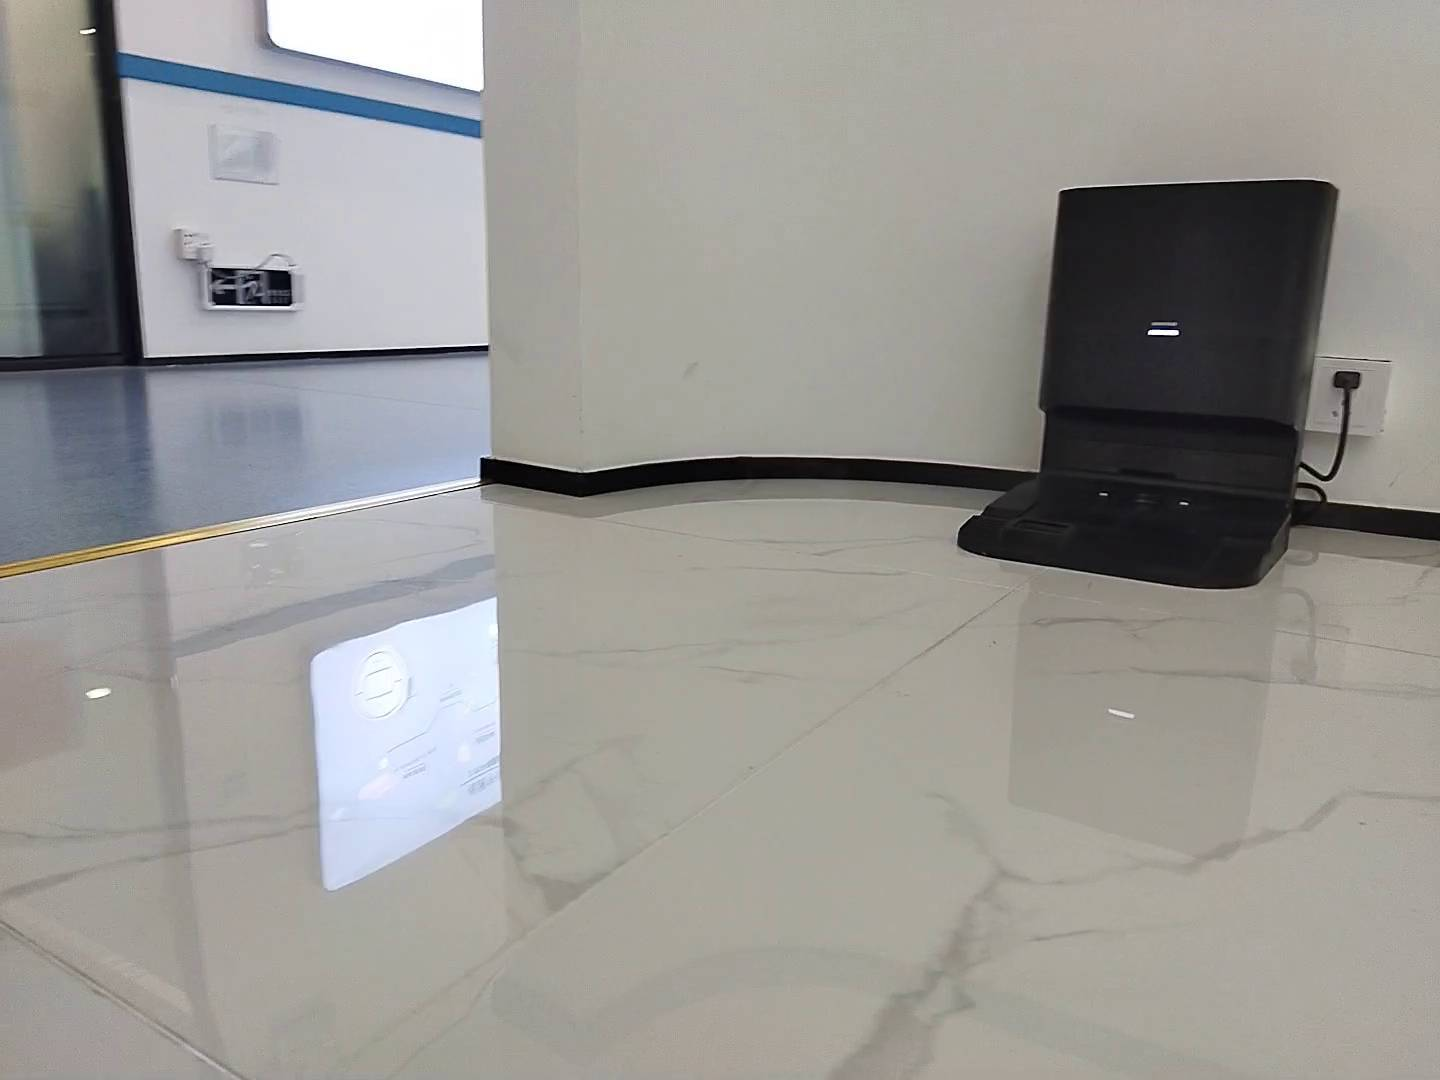dust collecting barrel: (957, 180, 1344, 589)
